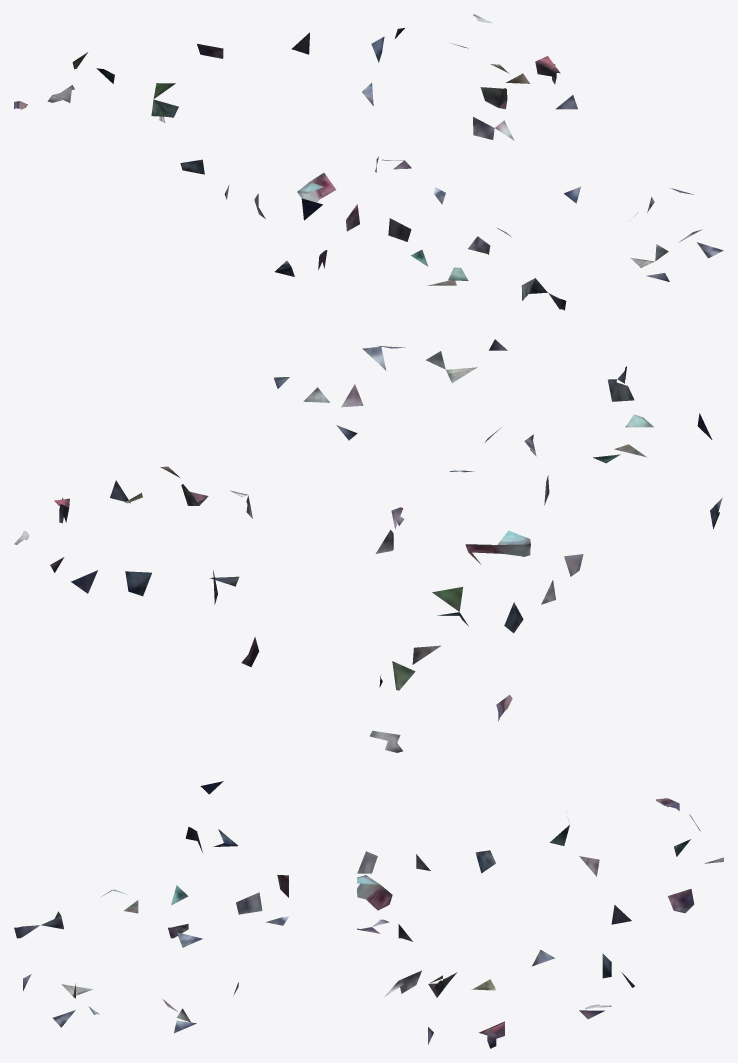
3 views of the same model, one above another, from view 1: azimuth 30°, elevation 25°; view 2: azimuth 150°, elevation 25°; view 3: azimuth 270°, elevation 25° (orthographic). The views are drawn at different scales.
Visible parts, largest first — view 1: 3043627270436162763_1; view 2: 3043627270436162763_1; view 3: 3043627270436162763_1.
Part boxes in pixels (x1,y1,x2,y2): 3043627270436162763_1: (14,14,723,310); 3043627270436162763_1: (14,339,722,752); 3043627270436162763_1: (14,781,723,1048).
Size of the model in its own units: 54.61 by 9.85 by 74.04.
1 material, 1 textured.
